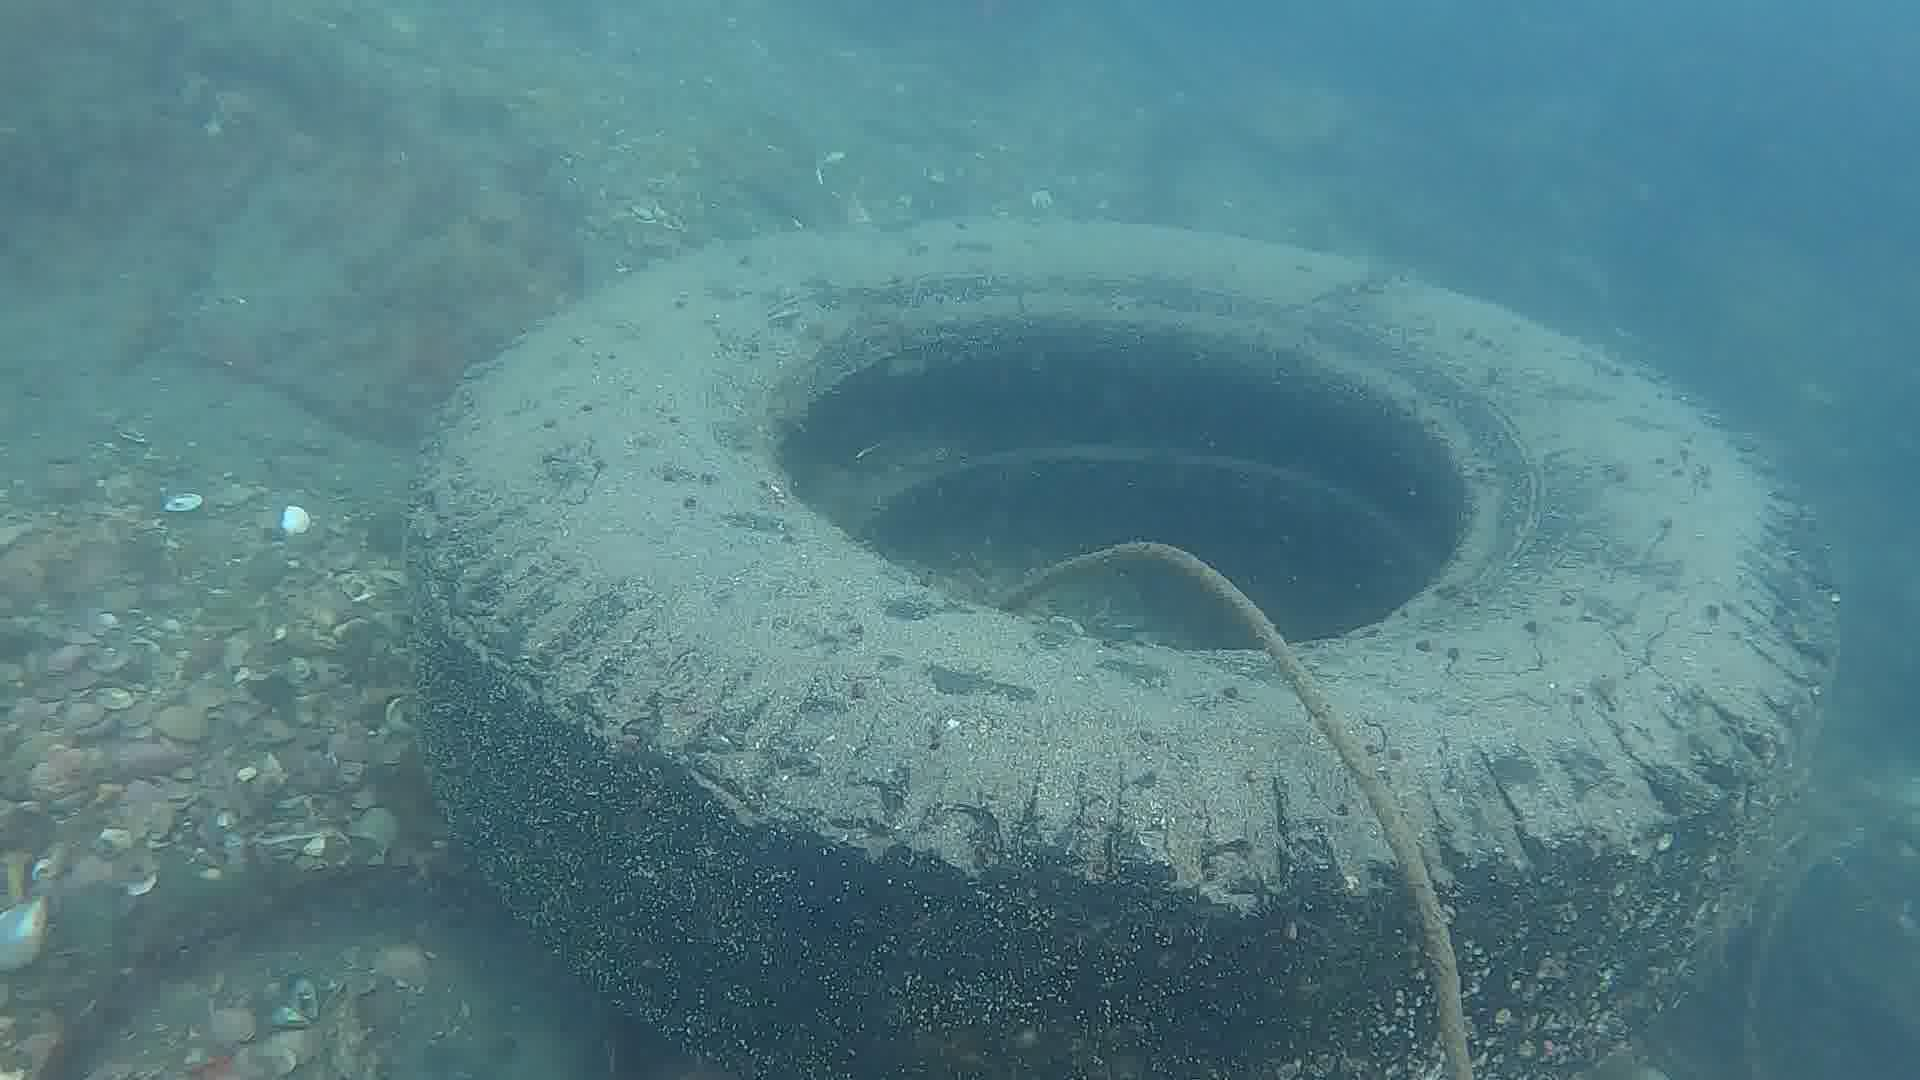rope: (986, 538, 1476, 1080)
tire: (405, 215, 1836, 1080)
